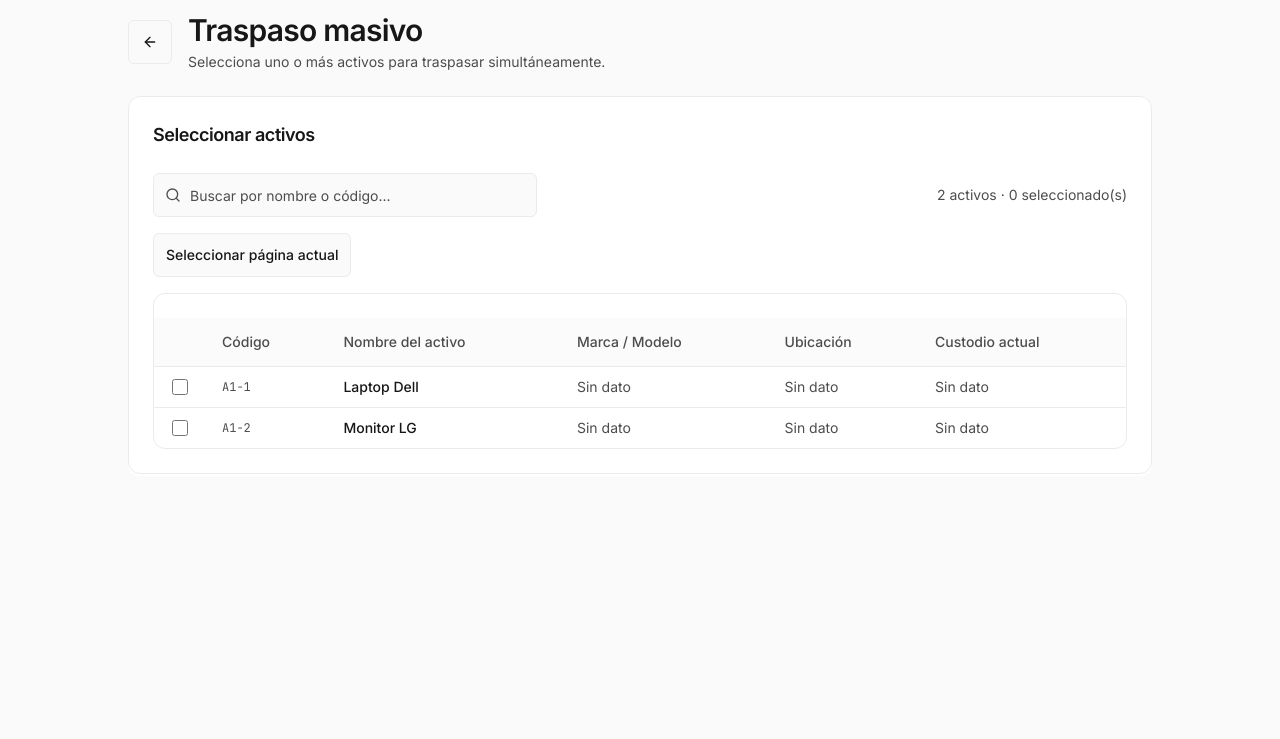
Test case: BulkTransferPage › selects only the current page when using the current-page toggle
Click the button "Seleccionar página actual": (252, 255) [153,233,351,277]
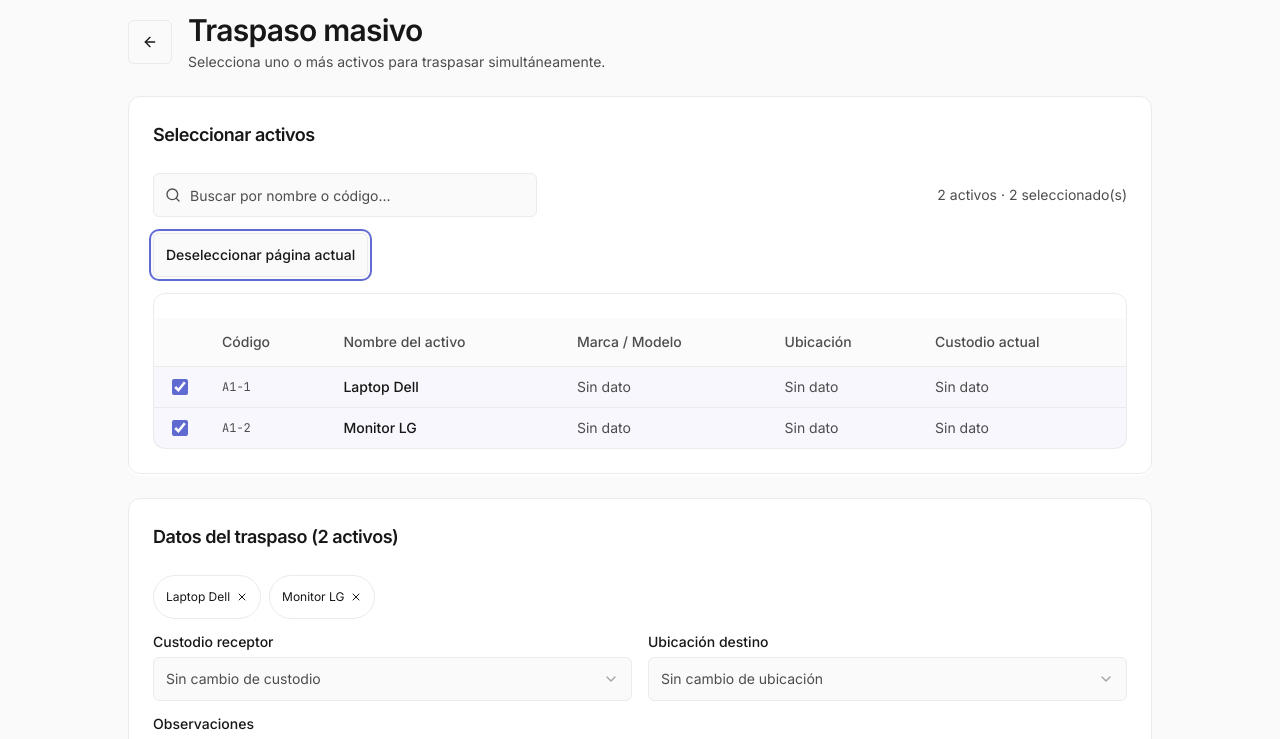
Expected: the text "2 activos · 2 seleccionado(s)" is shown, [937,185,1127,205]
